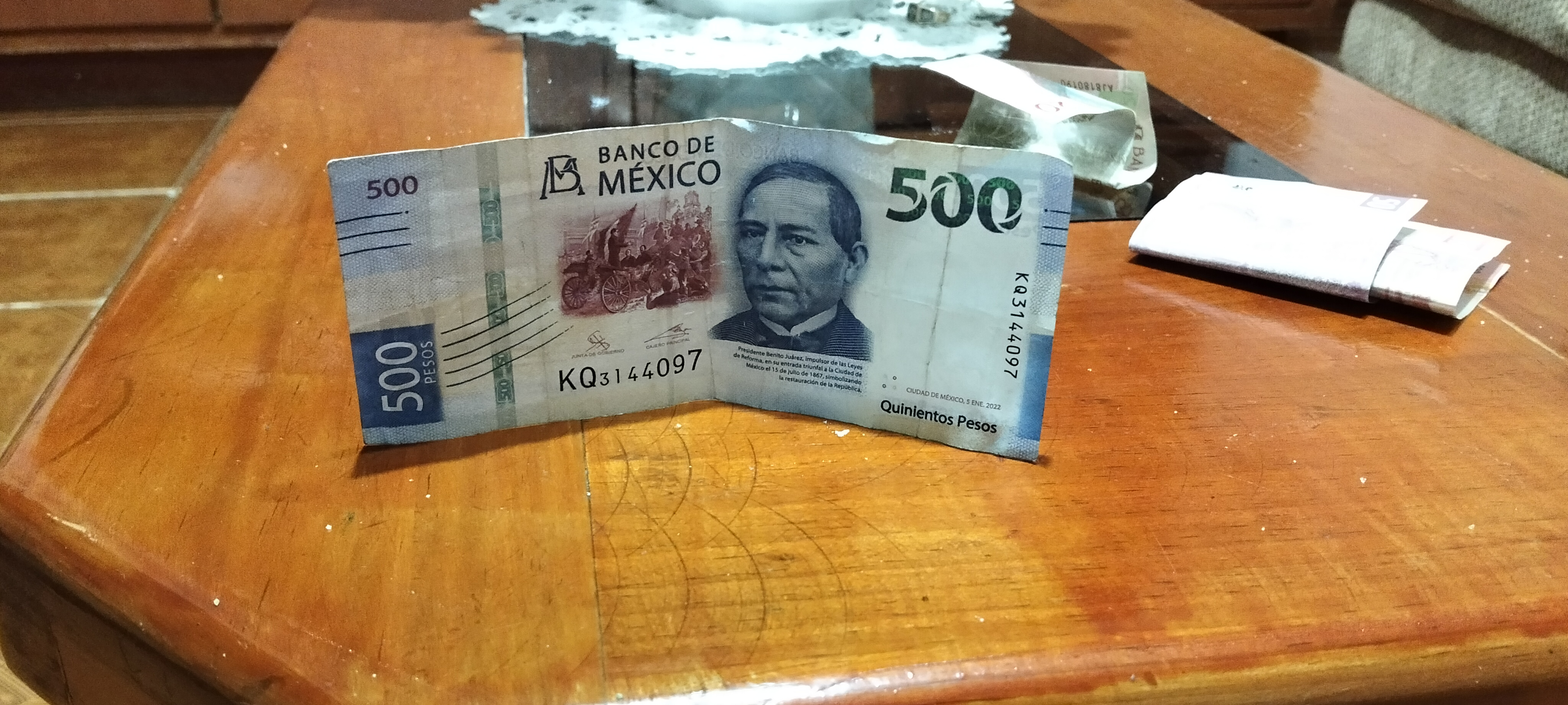billetes: (316, 104, 1090, 471)
